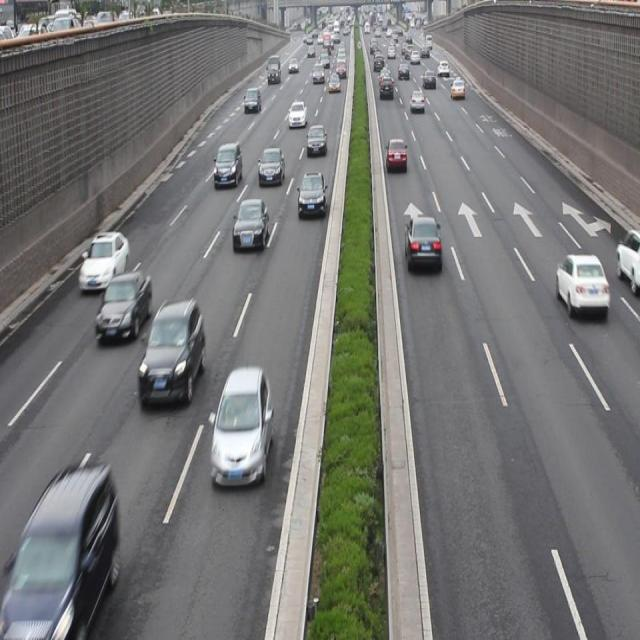car: (14, 463, 117, 640), (210, 364, 272, 486), (138, 297, 204, 402), (96, 270, 150, 343), (554, 252, 608, 315), (78, 230, 129, 293), (404, 213, 442, 274), (232, 197, 268, 251), (615, 228, 640, 286), (297, 170, 326, 218), (213, 141, 242, 187), (258, 146, 285, 186), (385, 138, 407, 174), (305, 122, 327, 157), (288, 101, 306, 128)
